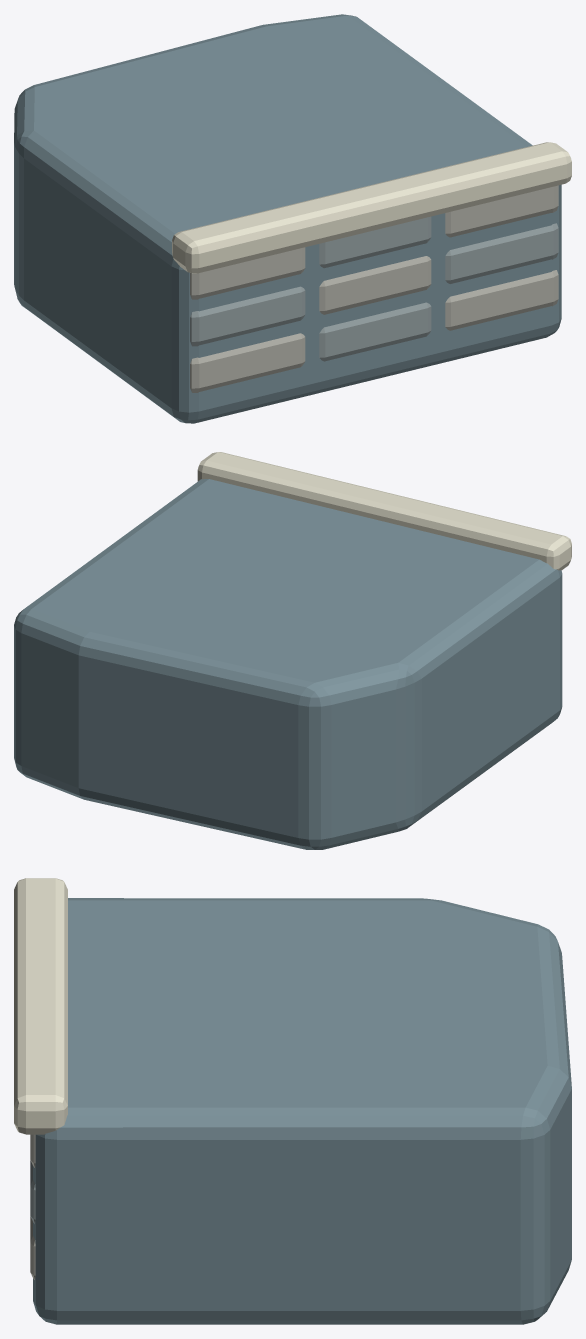
Rendered from city_edge.glb.
3 renders of one model, top to bottom at view 1: azimuth 30°, elevation 25°; view 2: azimuth 150°, elevation 25°; view 3: azimuth 270°, elevation 25°, orthographic. The views are drawn at different scales.
Visible parts, largest first — view 1: Batched City v2 sediment cliff, Batched City v2 smooth step edges, Batched City v2 riverstone paving, Batched City v2 warm grey retaining stone; view 2: Batched City v2 sediment cliff, Batched City v2 smooth step edges; view 3: Batched City v2 sediment cliff, Batched City v2 smooth step edges.
Part boxes in pixels (x1,y1,x2,y2): Batched City v2 sediment cliff: (14,14,561,423); Batched City v2 smooth step edges: (172,142,571,273); Batched City v2 riverstone paving: (190,185,558,392); Batched City v2 warm grey retaining stone: (190,216,558,361); Batched City v2 sediment cliff: (14,479,562,849); Batched City v2 smooth step edges: (197,452,571,570); Batched City v2 sediment cliff: (33,898,571,1324); Batched City v2 smooth step edges: (14,878,67,1134).
Size of the model in its own units: 2 by 0.95 by 2.07.
